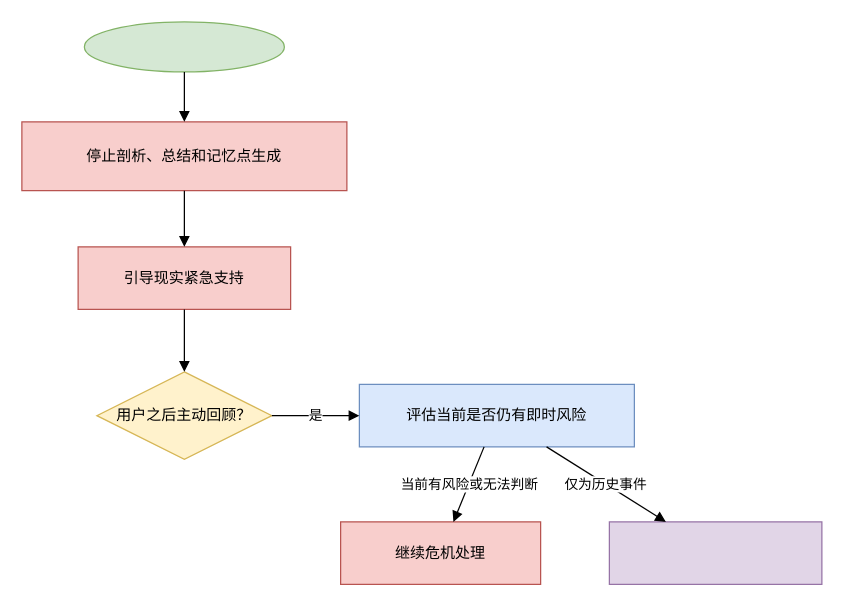
Some shapes in this 844 by 606 pixel diagram are drawn without their labels. Here are the shapes that lost their labels. From the top down, the centre of each, then its label:
(183,46): 识别高风险内容
(715,552): 允许重新发起剖析
